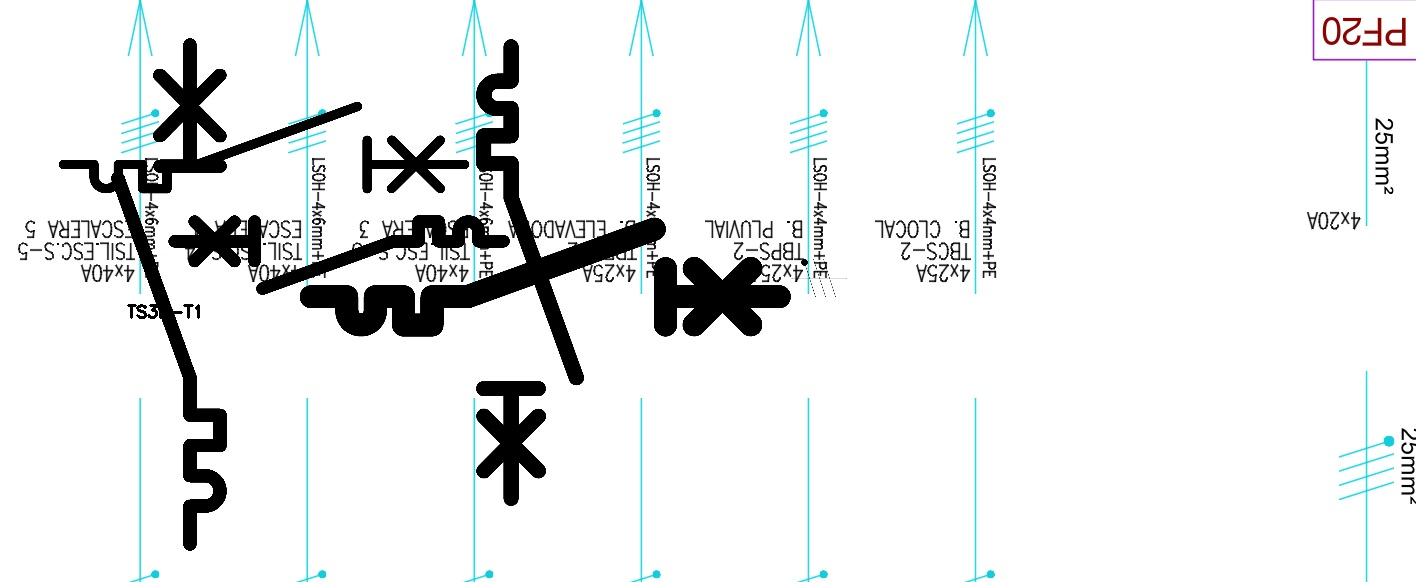interruptor_termomagnetico: (105, 32, 233, 557), (299, 217, 791, 337), (472, 35, 588, 510), (53, 96, 475, 199), (166, 213, 512, 297)
